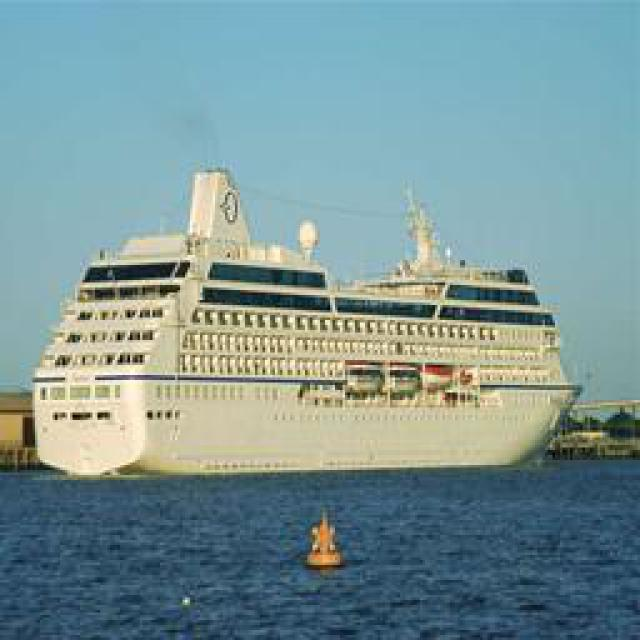Ship: (31, 162, 601, 480)
